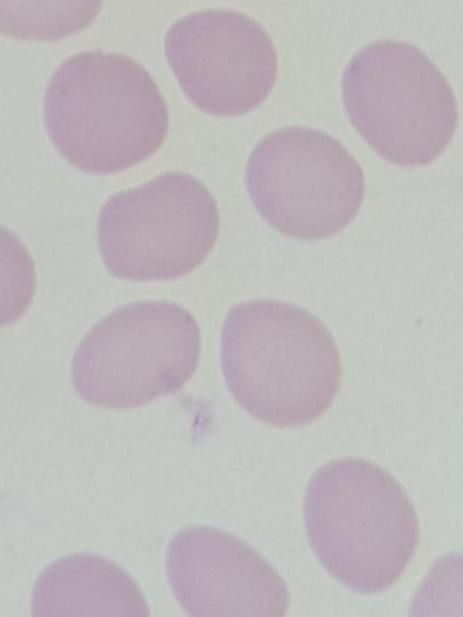Uninfected: (302, 452, 421, 601), (220, 294, 344, 432), (43, 52, 168, 176), (342, 41, 456, 165), (243, 124, 361, 242), (72, 301, 201, 408), (95, 176, 219, 286), (163, 7, 273, 117), (165, 531, 291, 617)
